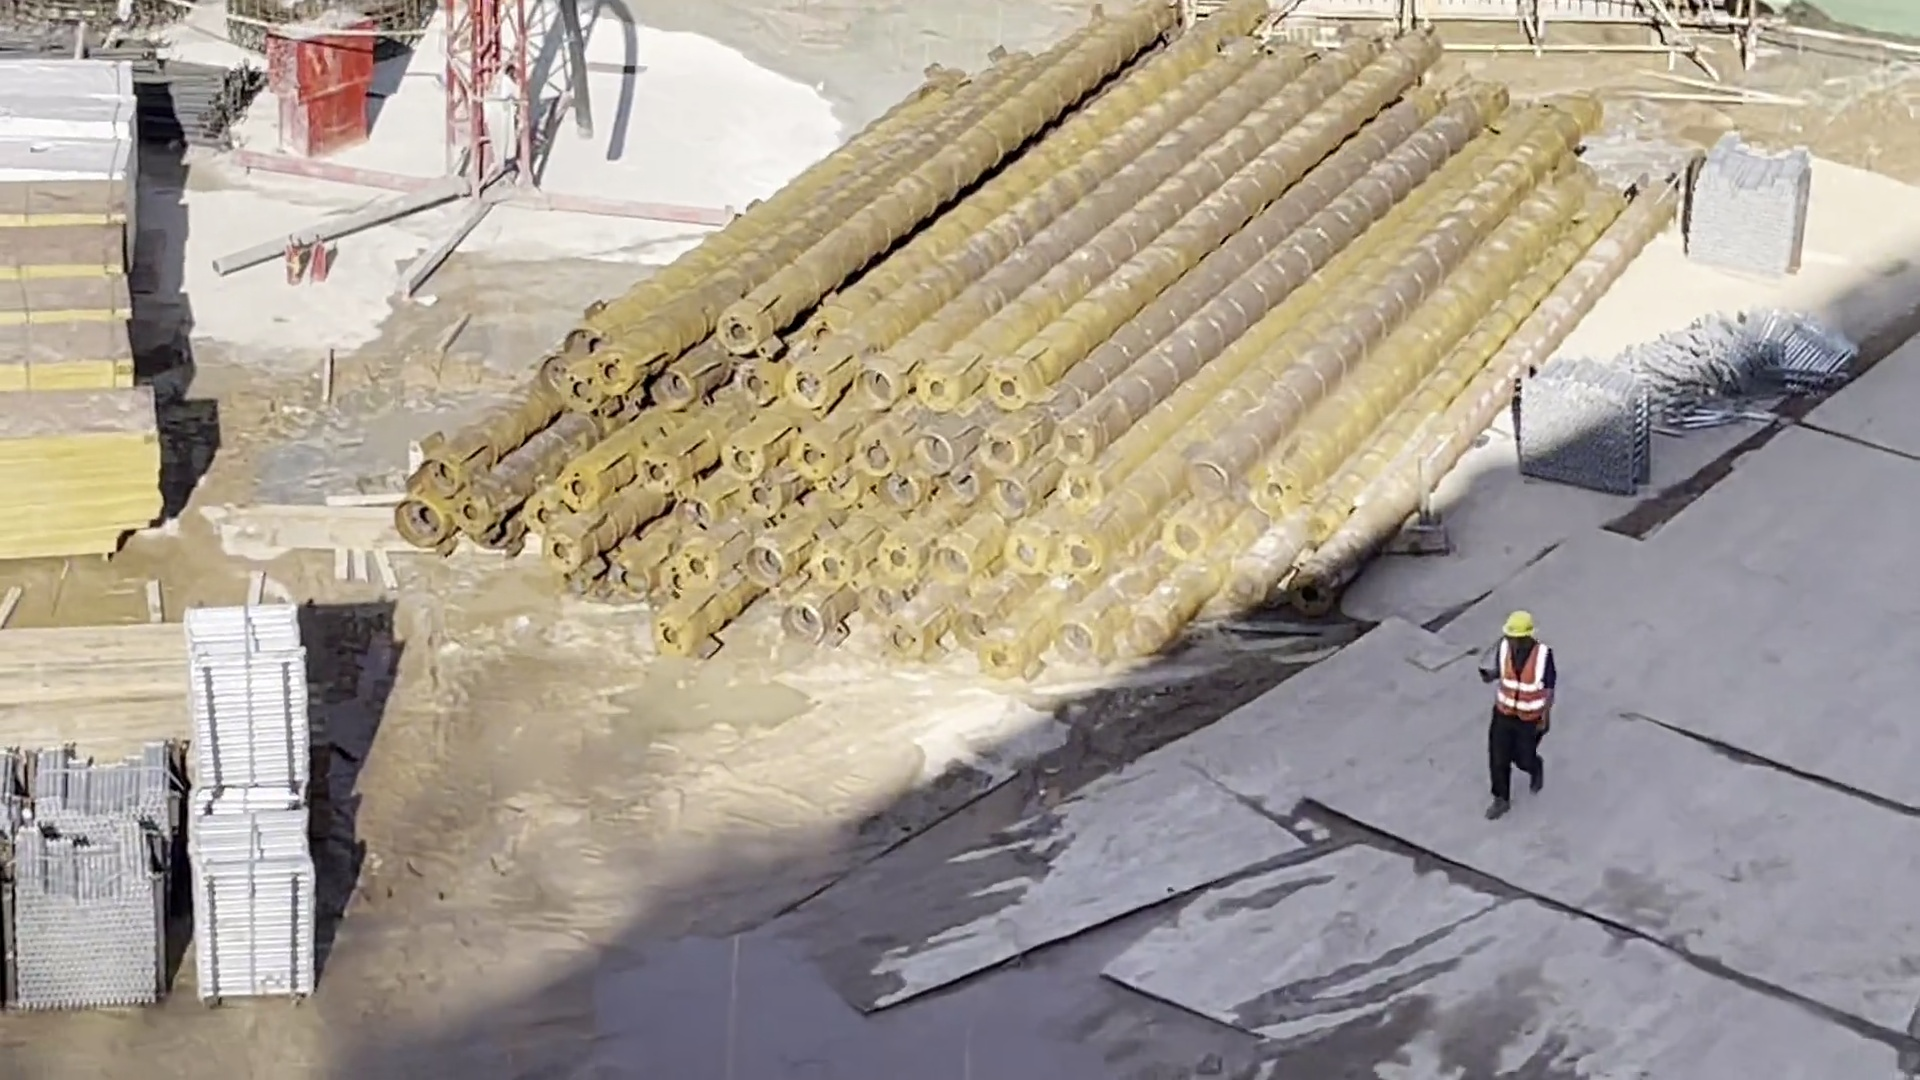board: (1, 194, 158, 565), (1, 622, 178, 744)
helmet: (1501, 611, 1539, 641)
person: (1478, 612, 1552, 820)
rebar: (1, 32, 258, 145)
scaffold: (183, 616, 320, 1000), (1, 750, 169, 1006), (1521, 365, 1647, 492), (1690, 138, 1805, 268)
vest: (1493, 638, 1544, 726)
